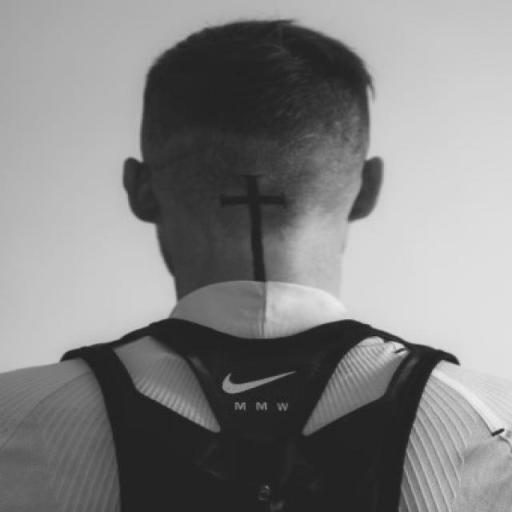Nike: (215, 365, 304, 400)
